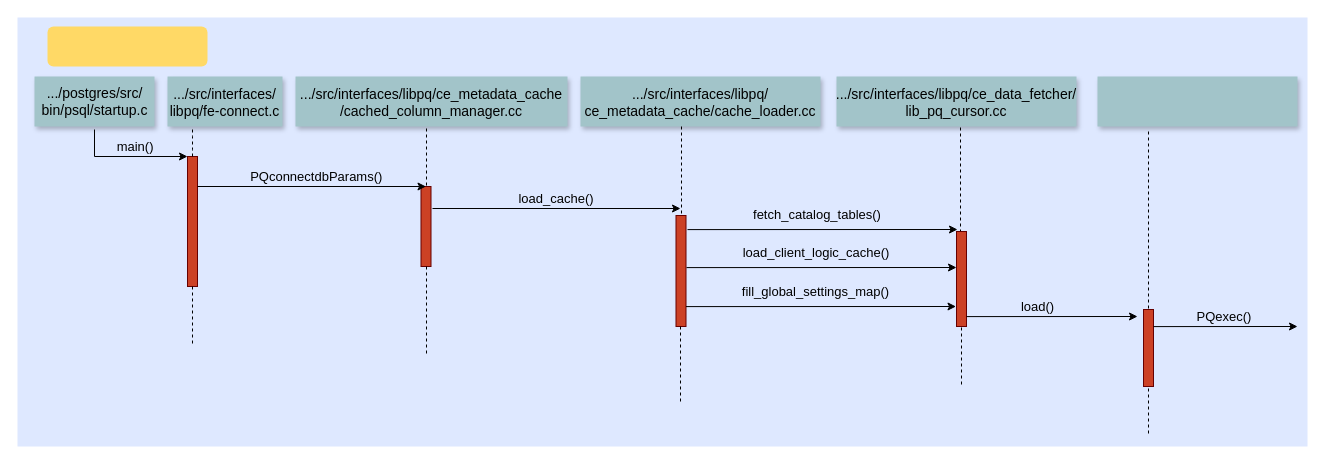
The diagram is 1324 pixels wide and 463 high, and some of its shapes have lost their labels. The shapes that lost their labels are listed below. From the top down, each one's centre as x and y in pixels, then its label:
point 127,46: load_cache
point 1198,102: .../src/interfaces/libpq/fe-exec.c
